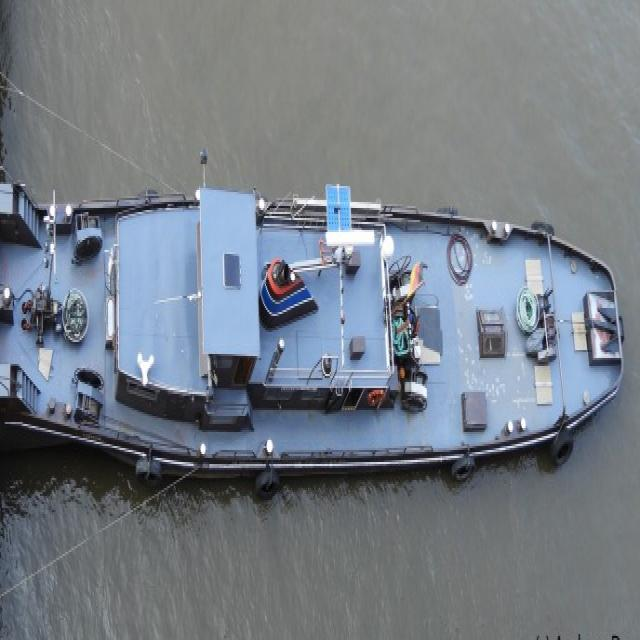tugboat: (1, 167, 630, 489)
